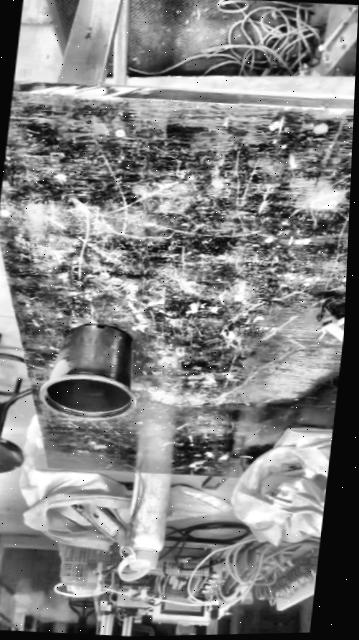pot: (34, 320, 141, 421)
